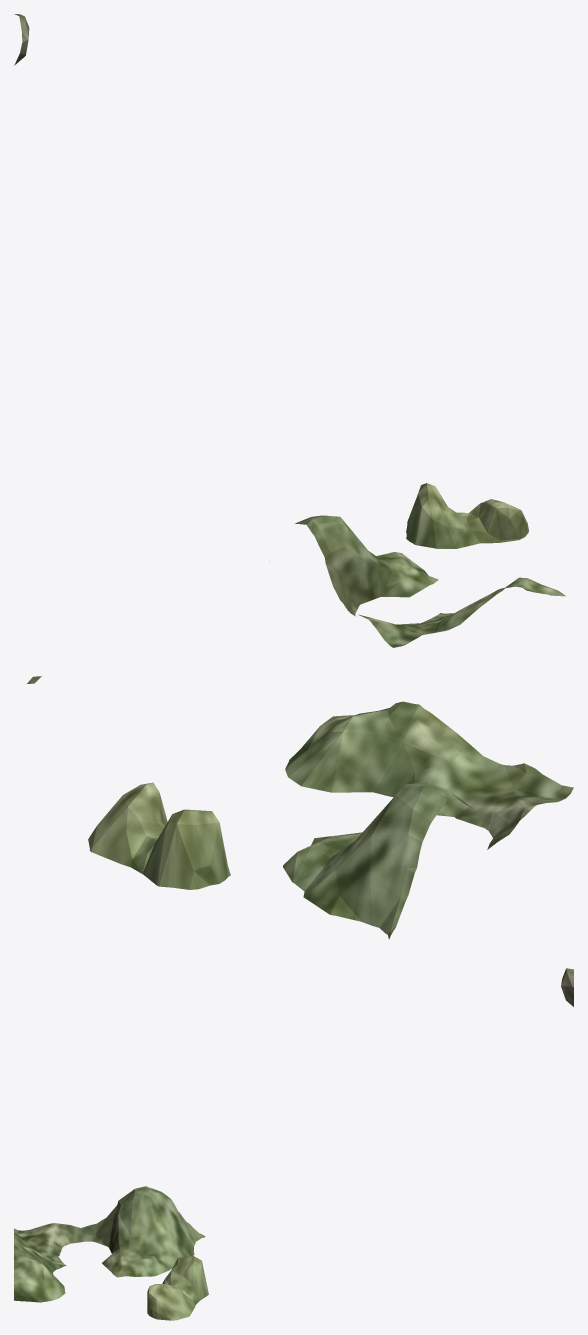
The picture shows the model from 3 angles, top to bottom: view 1: azimuth 30°, elevation 25°; view 2: azimuth 150°, elevation 25°; view 3: azimuth 270°, elevation 25°; orthographic projection. The views are drawn at different scales.
Size of the model in its own units: 2.09 by 3.12 by 5.9.
1 material, 1 textured.
